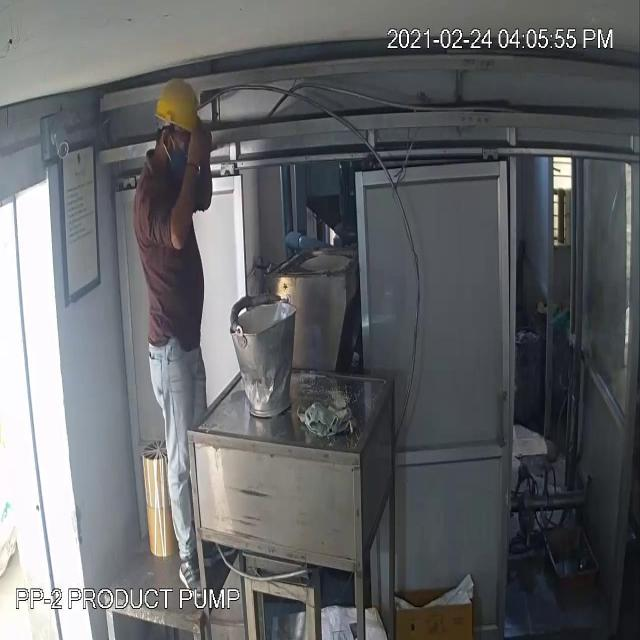helmet: (152, 66, 210, 144)
